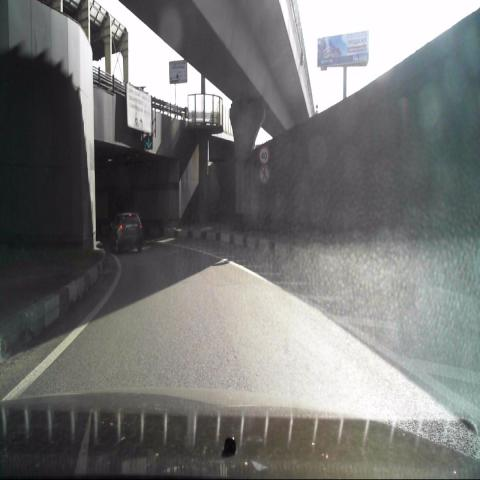3_10: (257, 165, 270, 184)
